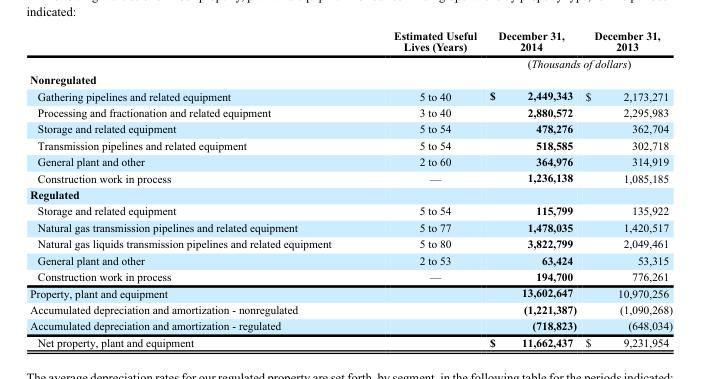table: (29, 28, 671, 348)
table column: (29, 28, 361, 348), (361, 28, 482, 348), (482, 28, 580, 348), (580, 28, 671, 348)
table column header: (29, 28, 671, 70)
table projected row header: (29, 70, 671, 87), (29, 185, 671, 202)
table row: (29, 28, 671, 54), (29, 70, 671, 87), (29, 103, 671, 120), (29, 136, 671, 153), (29, 185, 671, 202), (29, 218, 671, 235), (29, 267, 671, 284), (29, 300, 671, 317), (29, 54, 671, 70), (29, 87, 671, 103), (29, 120, 671, 136), (29, 153, 671, 169), (29, 169, 671, 185), (29, 202, 671, 218), (29, 235, 671, 251), (29, 251, 671, 267), (29, 284, 671, 300), (29, 317, 671, 333), (29, 333, 671, 348)
table spanning cell: (361, 28, 482, 70), (482, 54, 671, 70)
